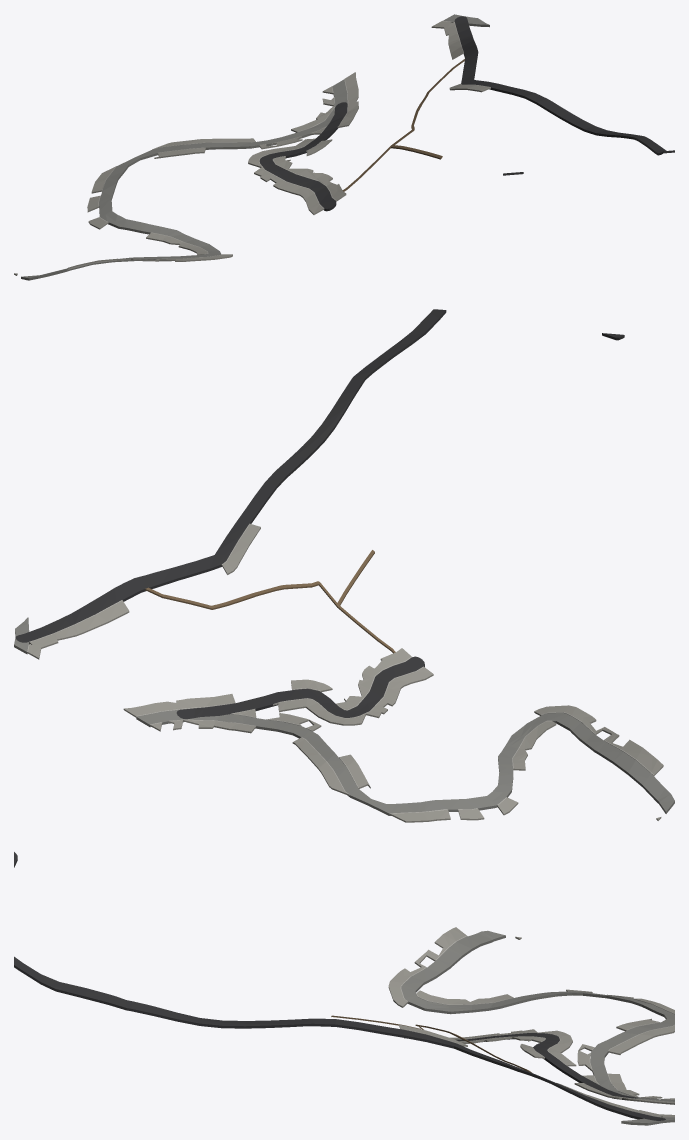
3 renders of one model, top to bottom at view 1: azimuth 30°, elevation 25°; view 2: azimuth 150°, elevation 25°; view 3: azimuth 270°, elevation 25°, orthographic. The views are drawn at different scales.
Size of the model in its own units: 293 by 111 by 291.
